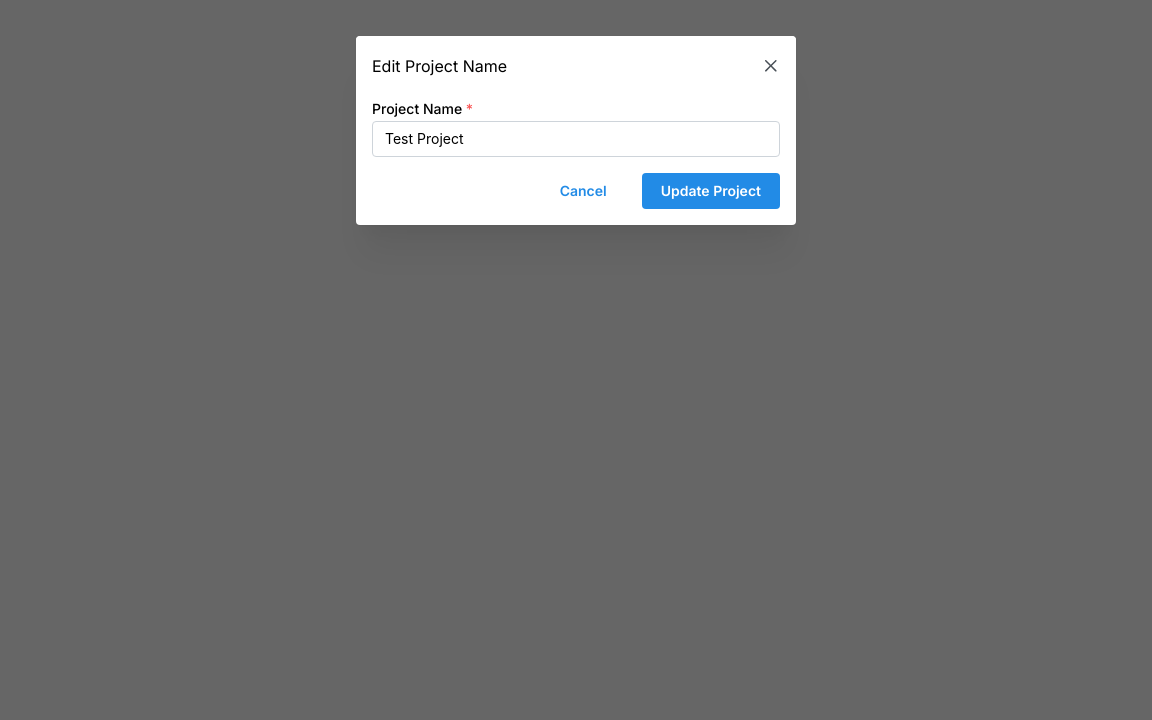
Test: EditProjectName Modal › Form Validation › should show error when name is empty and form is submitted
Note: Clear the pre-populated value
Clear the field with test id "project-name-input" at (576, 139), box [372,121,780,157]
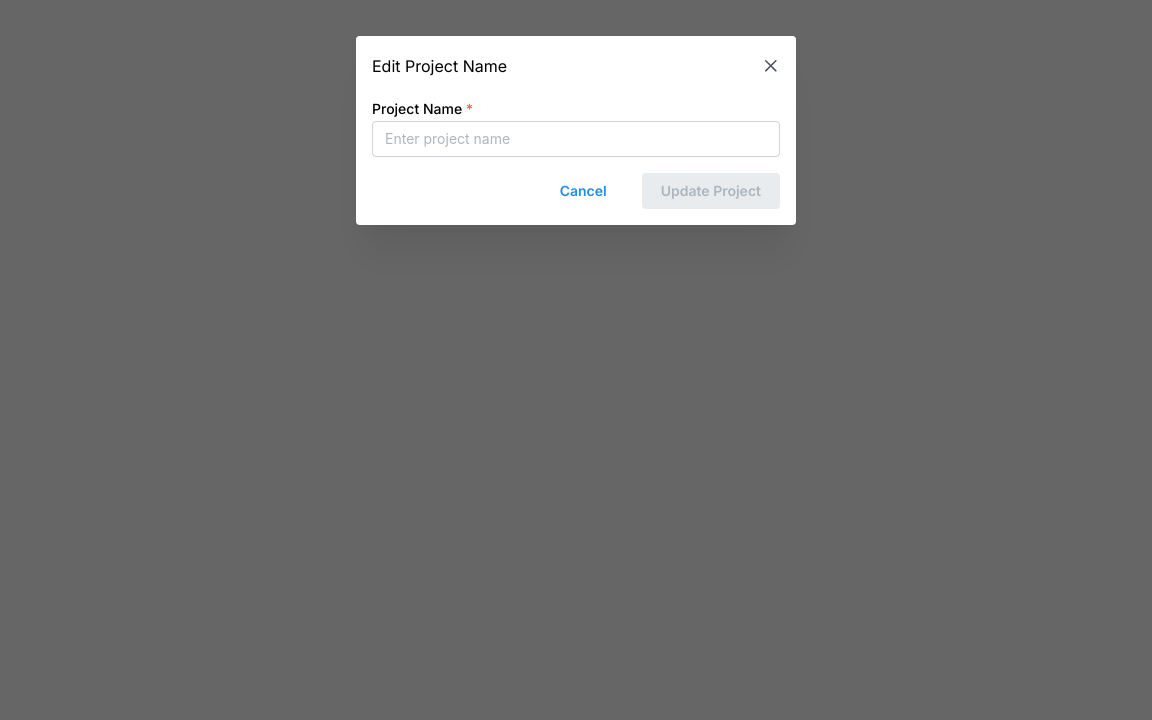
Note: Submit the form
Submit the form with test id "edit-project-form", box [372,96,780,209]
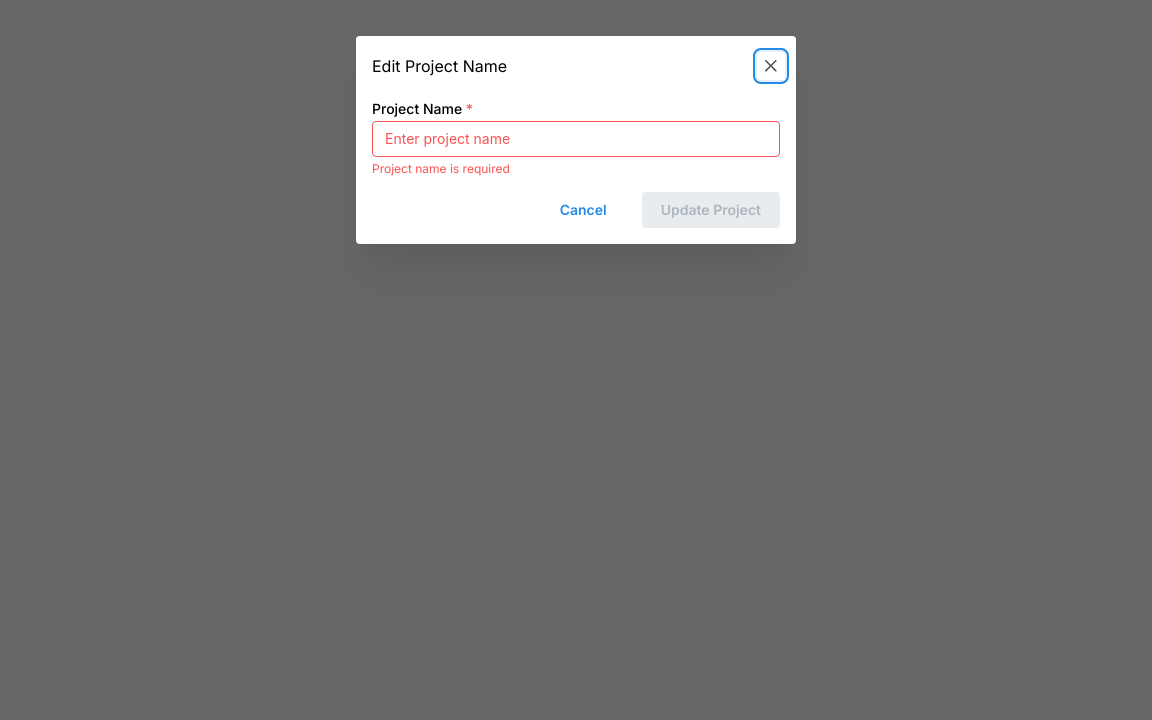
Expected: the text "Project name is required" is shown, [372,161,510,176]
